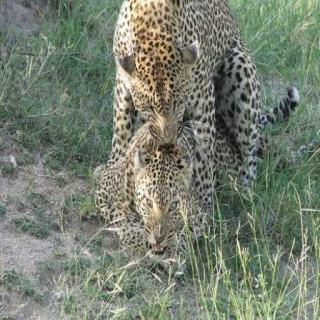Leopard: (101, 0, 289, 152), (92, 112, 232, 254)
